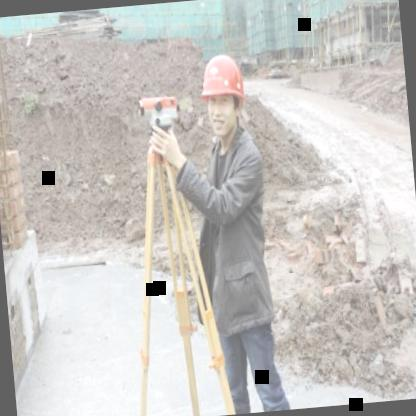helmet: (197, 47, 256, 148)
